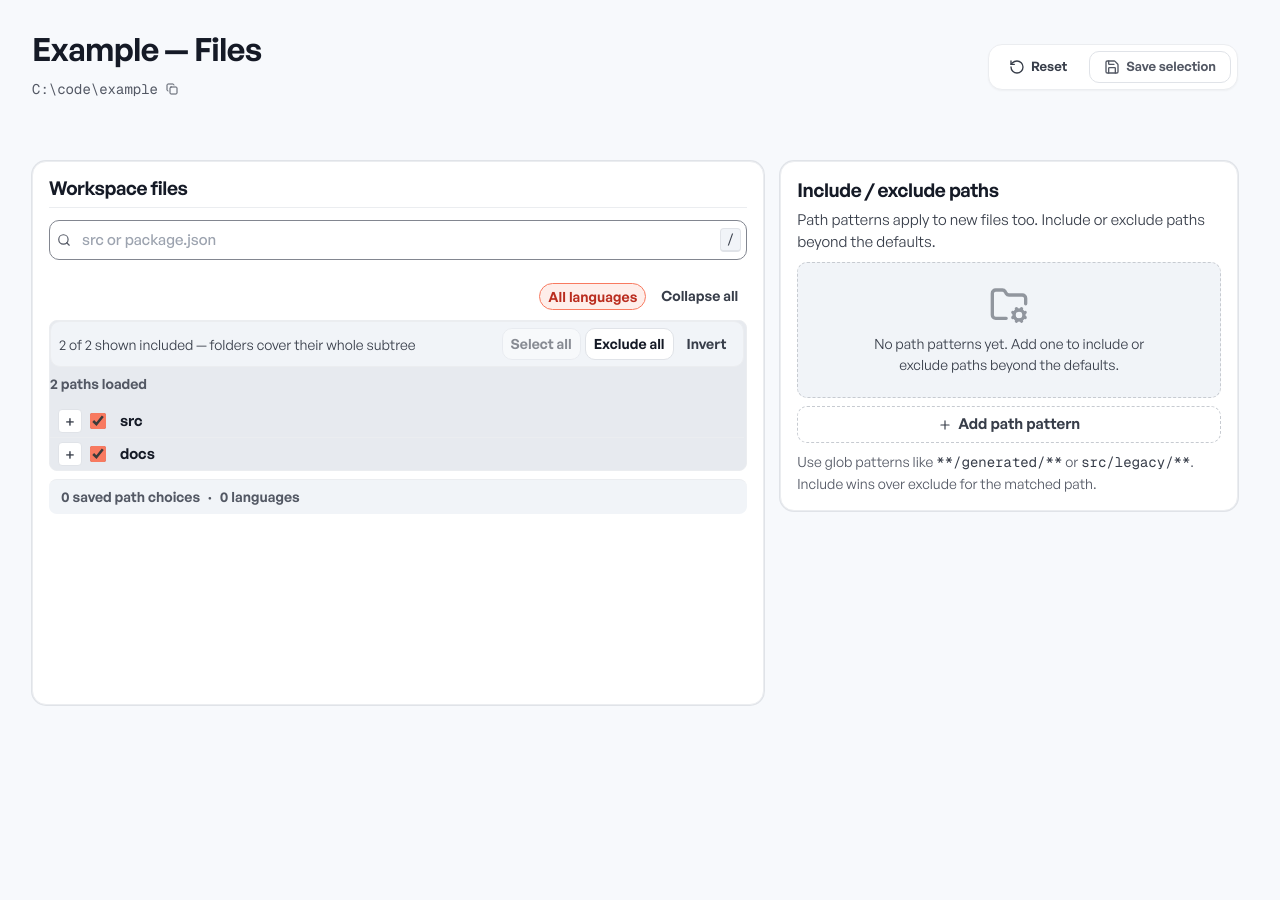
Test: FilesPage tree search › shows a spinner on the toggle while a folder load is pending
Click the 1st button "+" at point(70, 421), box top-left (58, 409), bottom-right (82, 433)
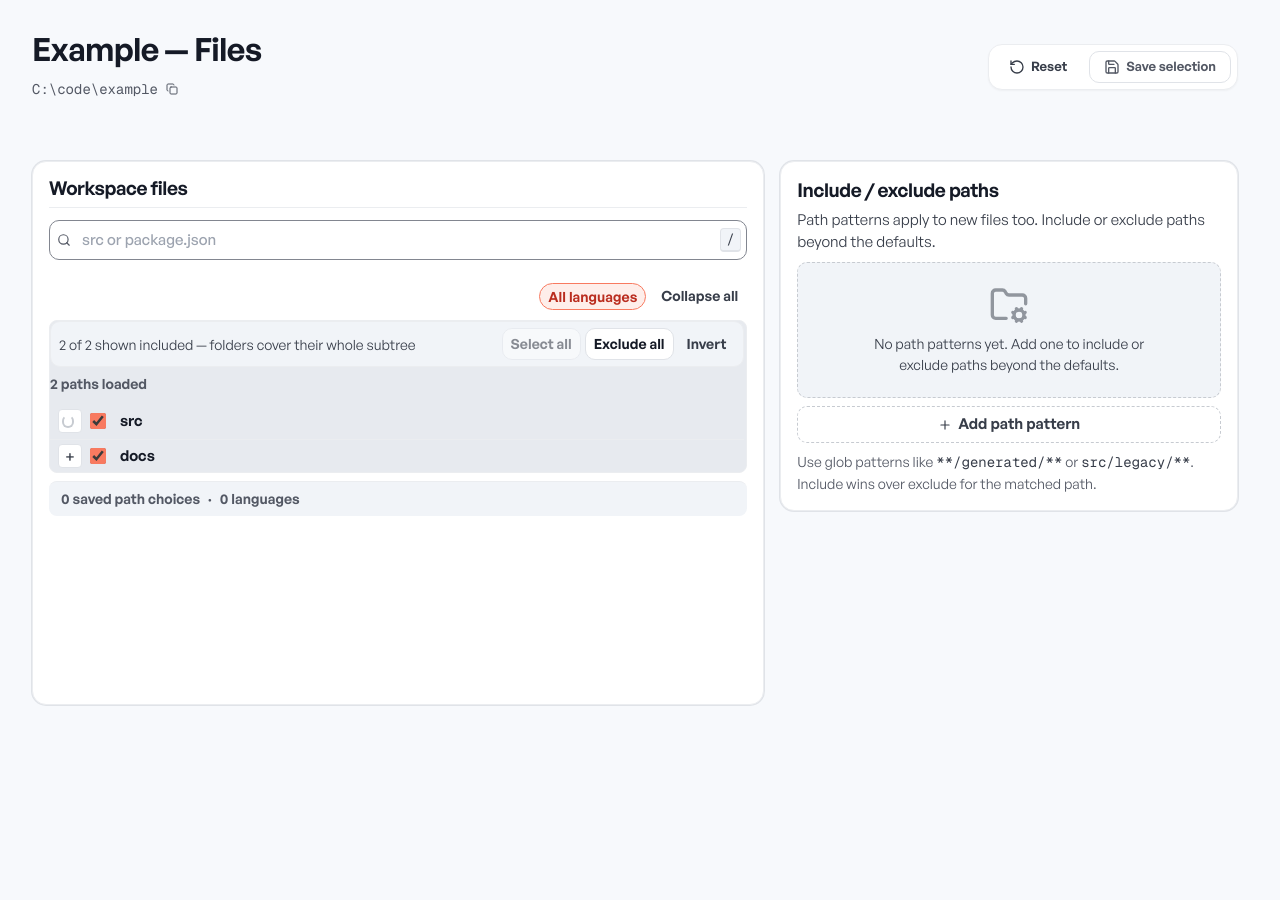
Now the element with class "spinner" is shown, box top-left (62, 415), bottom-right (74, 428)
